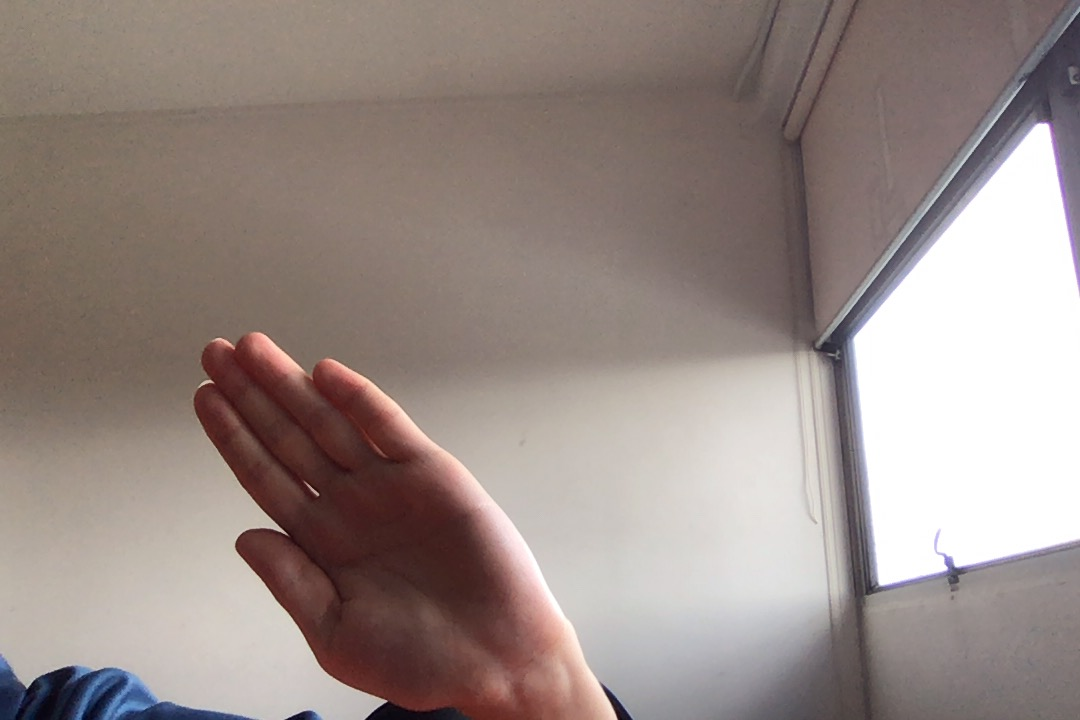palmhand: (184, 330, 578, 714)
